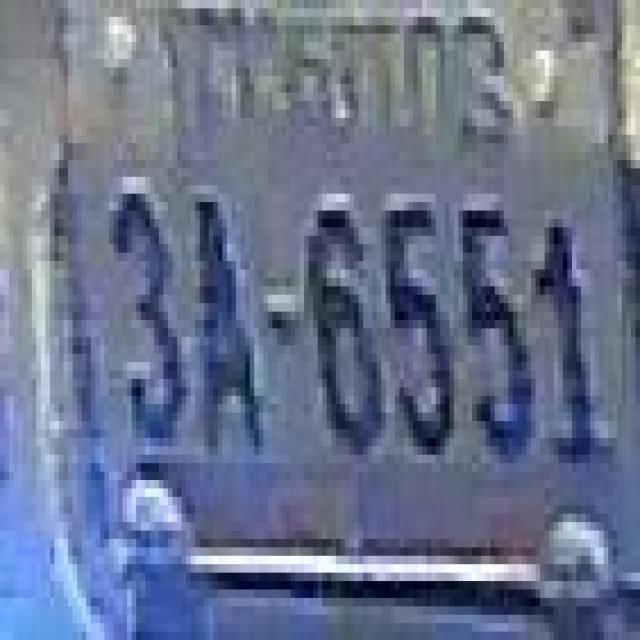Preah_Sihanouk: (159, 0, 510, 180)
